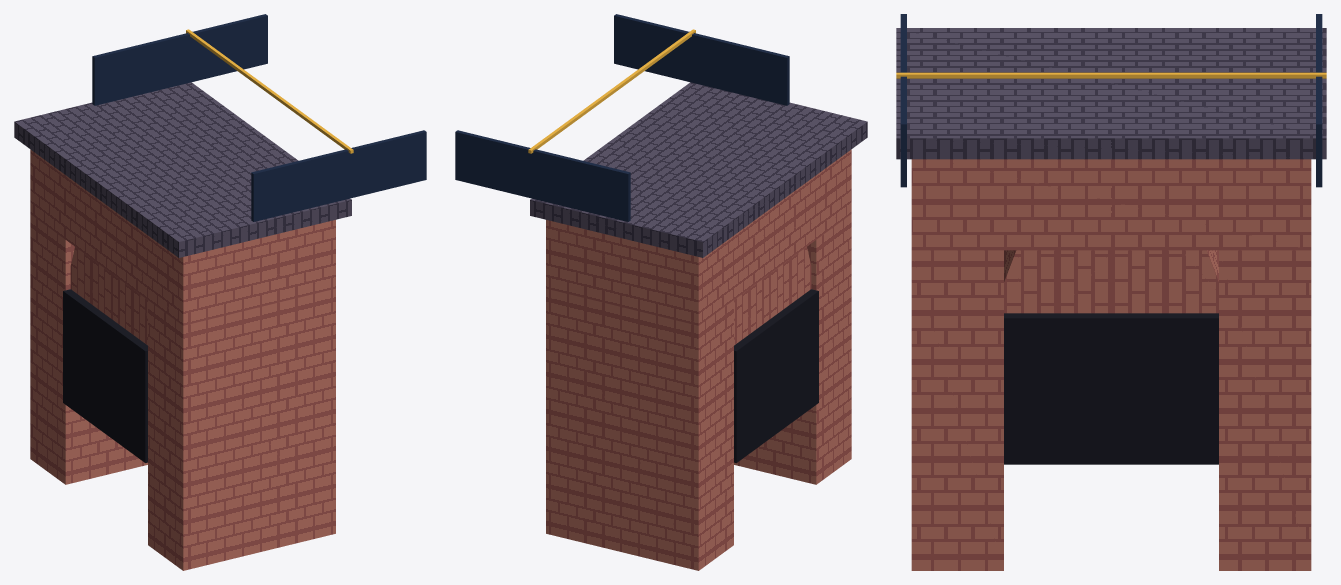
Rendered from pf_arche_barrage.glb.
3 views of the same model, side by side, from view 1: azimuth 30°, elevation 25°; view 2: azimuth 150°, elevation 25°; view 3: azimuth 270°, elevation 25° (orthographic). The views are drawn at different scales.
Parts seen in each view (by area): view 1: p_box.1616, p_box.1620, p_box.1618, p_box.1617, p_box.1619, p_box.1621, p_box.1622, p_cyl.137, p_box.1623; view 2: p_box.1617, p_box.1620, p_box.1618, p_box.1616, p_box.1619, p_box.1622, p_box.1621, p_cyl.137, p_box.1623; view 3: p_box.1620, p_box.1618, p_box.1619, p_box.1616, p_box.1617, p_cyl.137, p_box.1623, p_box.1621, p_box.1622.
Boxes of the visible parts, box(x1,y1,x2,y2) form: p_box.1616: box(148, 288, 335, 570); p_box.1620: box(14, 82, 351, 257); p_box.1618: box(30, 149, 335, 325); p_box.1617: box(30, 214, 147, 484); p_box.1619: box(63, 289, 147, 462); p_box.1621: box(251, 130, 426, 221); p_box.1622: box(92, 14, 267, 105); p_cyl.137: box(70, 247, 147, 345); p_box.1623: box(186, 29, 353, 153); p_box.1617: box(546, 288, 733, 570); p_box.1620: box(530, 82, 867, 257); p_box.1618: box(546, 149, 851, 325); p_box.1616: box(734, 214, 851, 484); p_box.1619: box(734, 289, 818, 462); p_box.1622: box(455, 130, 630, 221); p_box.1621: box(614, 14, 789, 105); p_cyl.137: box(734, 247, 811, 345); p_box.1623: box(528, 29, 695, 153); p_box.1620: box(896, 28, 1326, 159); p_box.1618: box(911, 159, 1311, 250); p_box.1619: box(1004, 313, 1218, 464); p_box.1616: box(911, 250, 1003, 570); p_box.1617: box(1219, 250, 1311, 570); p_cyl.137: box(1004, 250, 1218, 313); p_box.1623: box(896, 72, 1326, 78); p_box.1621: box(900, 14, 906, 187); p_box.1622: box(1316, 14, 1322, 187).
Size of the model in its own units: 4.9 by 7.23 by 5.6.
5 materials, 2 textured.
